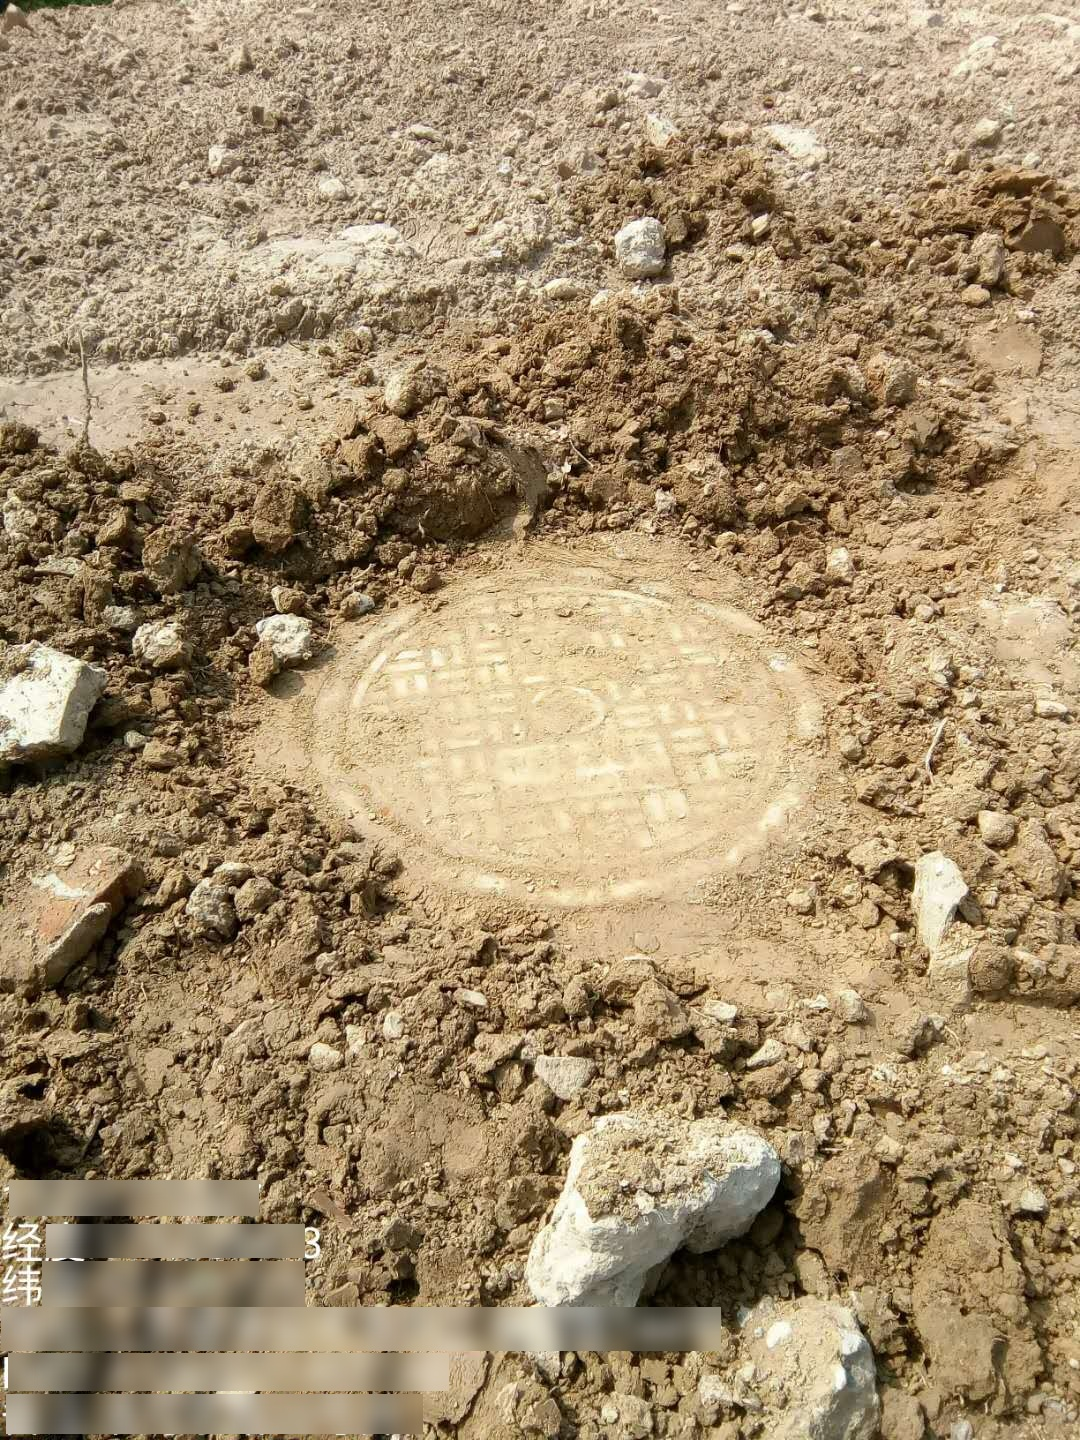good: (309, 568, 828, 900)
